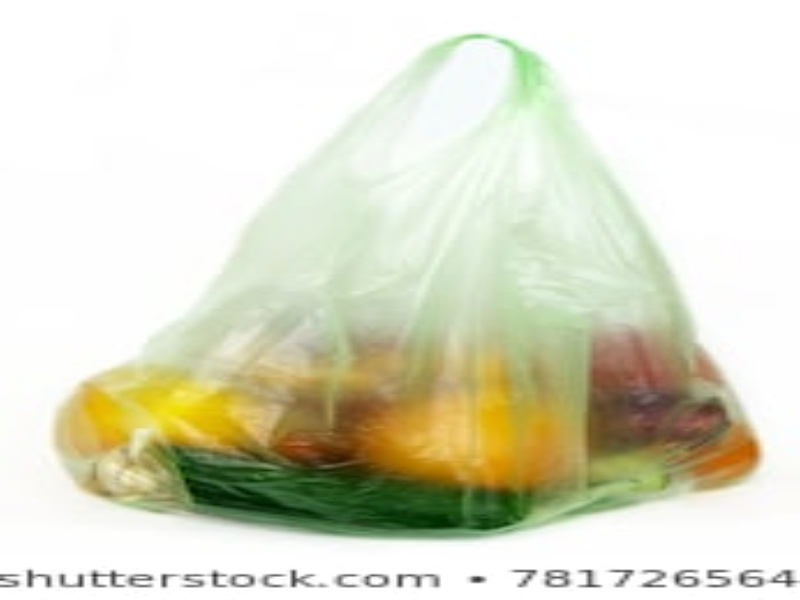plastic-bag: (46, 30, 769, 539)
